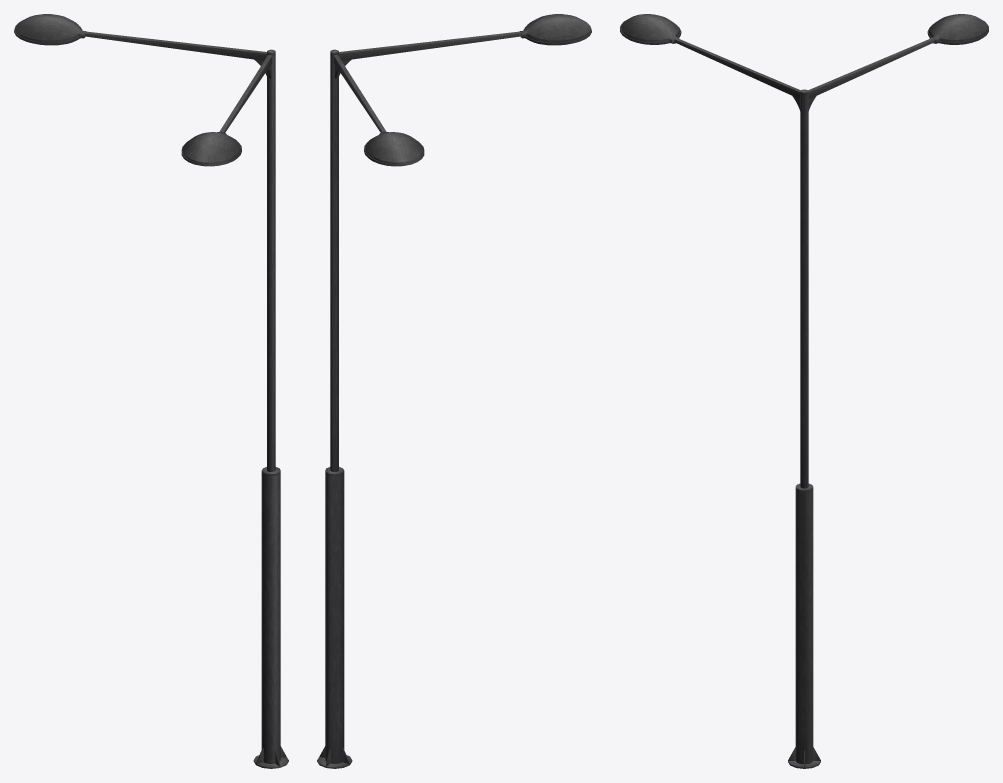
3 renders of one model, left to right at view 1: azimuth 30°, elevation 25°; view 2: azimuth 150°, elevation 25°; view 3: azimuth 270°, elevation 25°, orthographic. The views are drawn at different scales.
Parts seen in each view (by area): view 1: MainBuilding; view 2: MainBuilding; view 3: MainBuilding.
Part boxes in pixels (box(x1,y1,x2,y2)): MainBuilding: box(14, 14, 288, 768); MainBuilding: box(317, 14, 591, 768); MainBuilding: box(620, 14, 988, 768).
Size of the model in its own units: 2.42 by 9.01 by 4.44.
1 material, 1 textured.
